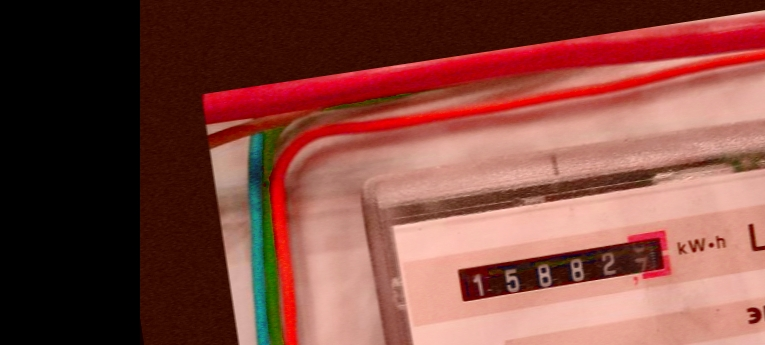1: (473, 271, 491, 301)
2: (602, 251, 622, 281)
5: (504, 267, 526, 296)
7: (635, 256, 653, 275)
8: (537, 263, 557, 293), (570, 257, 589, 287)
screen: (445, 223, 686, 319)
